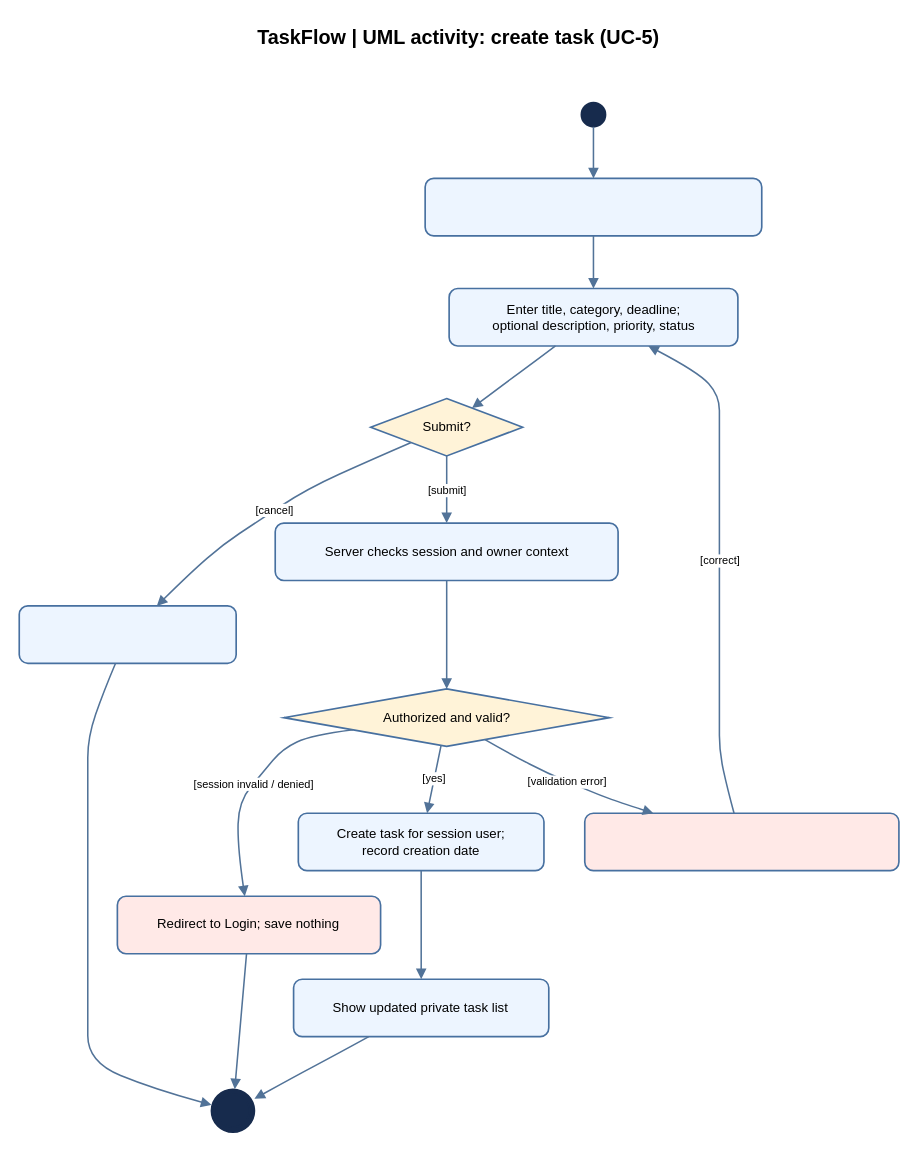
This 920x1152 diagram has some shape labels left out. The centre of each missing label's shape, as x and y in pixels:
"Authenticated user opens Add New Task" goes at point (593, 206).
"Close form; save nothing" goes at point (127, 634).
"Show errors; preserve entered values" goes at point (741, 841).
